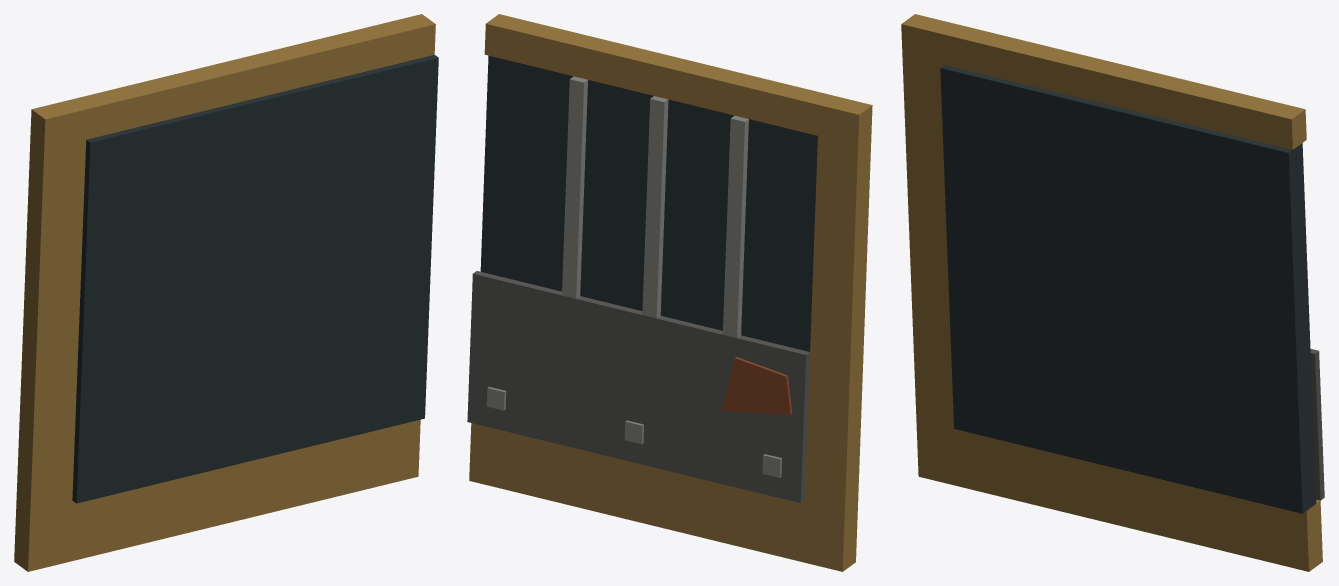
Rendered from cab_side.glb.
3 views of the same model, side by side, from view 1: azimuth 30°, elevation 25°; view 2: azimuth 150°, elevation 25°; view 3: azimuth 330°, elevation 25° (orthographic). The views are drawn at different scales.
Visible parts, largest first — view 1: cab_side; view 2: cab_side; view 3: cab_side.
Part boxes in pixels (x1,y1,x2,y2): cab_side: (14,14,438,571); cab_side: (467,14,872,571); cab_side: (901,14,1324,571).
Size of the model in its own units: 0.65 by 0.74 by 0.1065.
